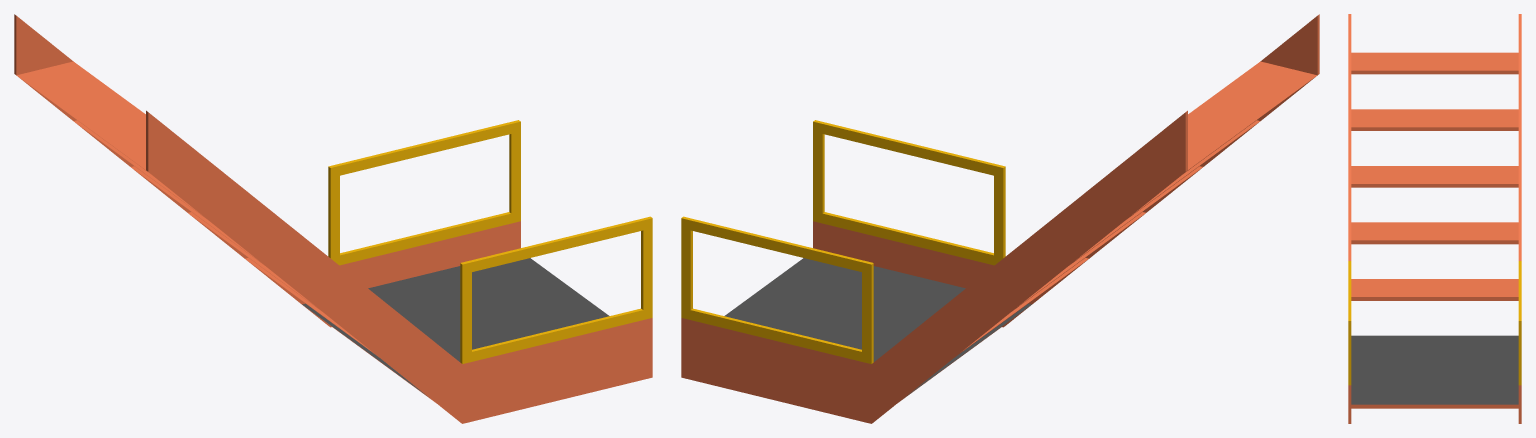
Rendered from Prop_Industrial_Platform_Walkway_Narrow_Steps_w_Platform_02.FBX.
3 renders of one model, left to right at view 1: azimuth 30°, elevation 25°; view 2: azimuth 150°, elevation 25°; view 3: azimuth 270°, elevation 25°, orthographic. The views are drawn at different scales.
Parts seen in each view (by area): view 1: Prop_Industrial_Platform_Walkway_Narrow_Steps_w_Platform_02; view 2: Prop_Industrial_Platform_Walkway_Narrow_Steps_w_Platform_02; view 3: Prop_Industrial_Platform_Walkway_Narrow_Steps_w_Platform_02.
Boxes of the visible parts, x1=… form: Prop_Industrial_Platform_Walkway_Narrow_Steps_w_Platform_02: x1=14, y1=14, x2=652, y2=423; Prop_Industrial_Platform_Walkway_Narrow_Steps_w_Platform_02: x1=681, y1=14, x2=1319, y2=423; Prop_Industrial_Platform_Walkway_Narrow_Steps_w_Platform_02: x1=1348, y1=14, x2=1521, y2=423.
Bounding box in the file's own units: 5300 × 3900 × 2440.
